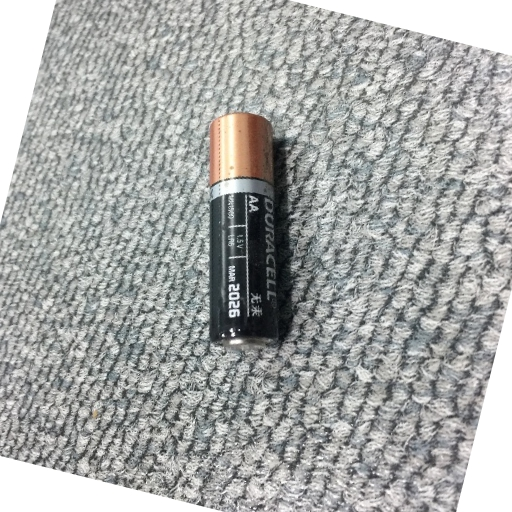Battery_0: (193, 98, 293, 362)
